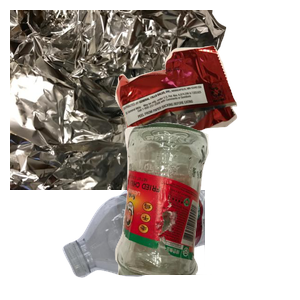glass: (112, 120, 300, 300)
metal: (10, 10, 229, 190)
plastic: (60, 190, 300, 280)
trash: (113, 43, 300, 181)
